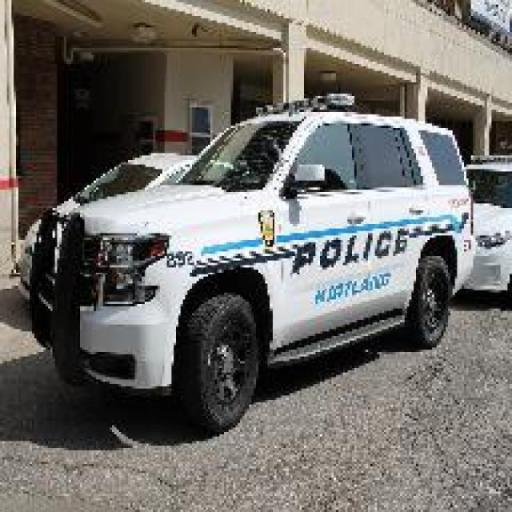Ambulance: (26, 96, 475, 423)
